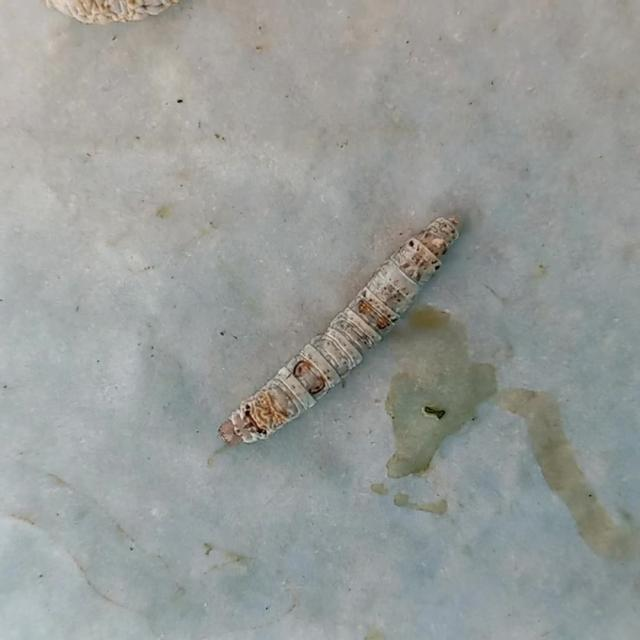Grasserie: (211, 203, 470, 456)
